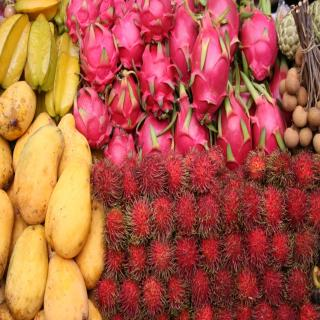Mango: (0, 80, 106, 320), (44, 160, 92, 258)
